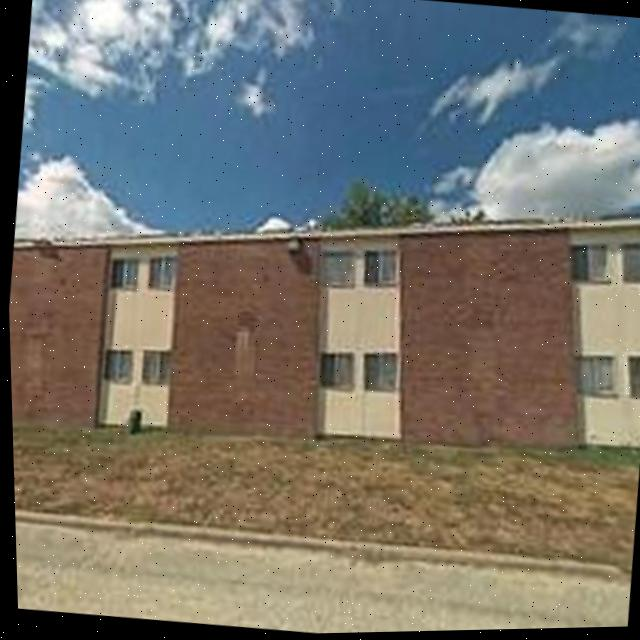building: (5, 148, 640, 489)
